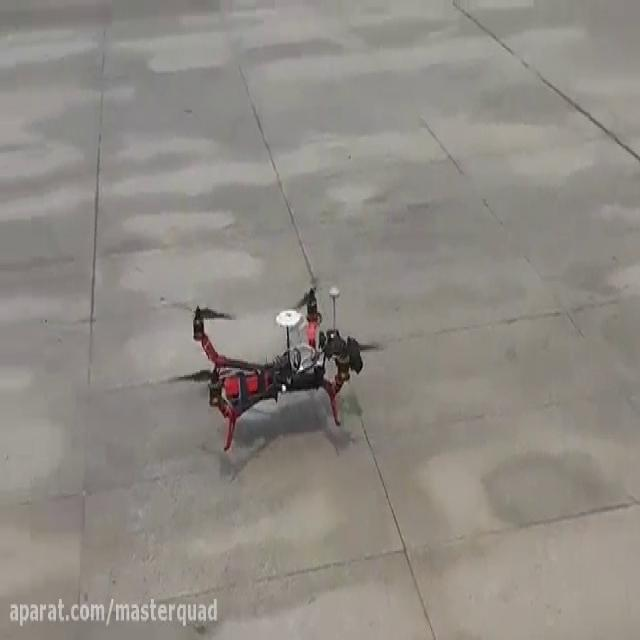drone: (158, 268, 393, 457)
